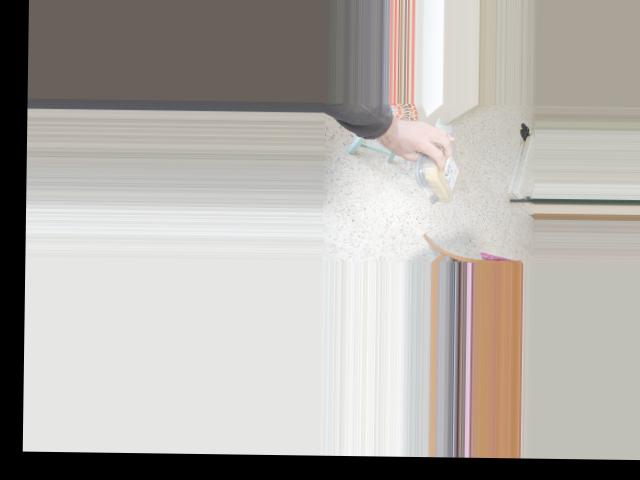cheese: (421, 129, 458, 204)
